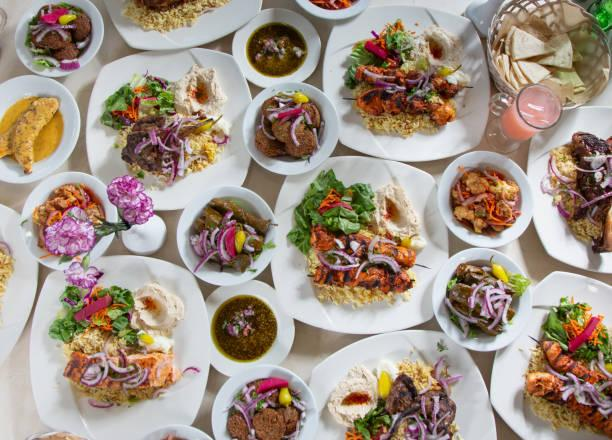Braised Crucian Carp: (30, 254, 213, 438), (268, 154, 437, 334), (87, 45, 252, 210), (323, 2, 485, 163), (486, 0, 610, 110)
